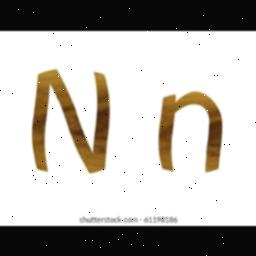n: (24, 60, 116, 180), (152, 82, 230, 182)
